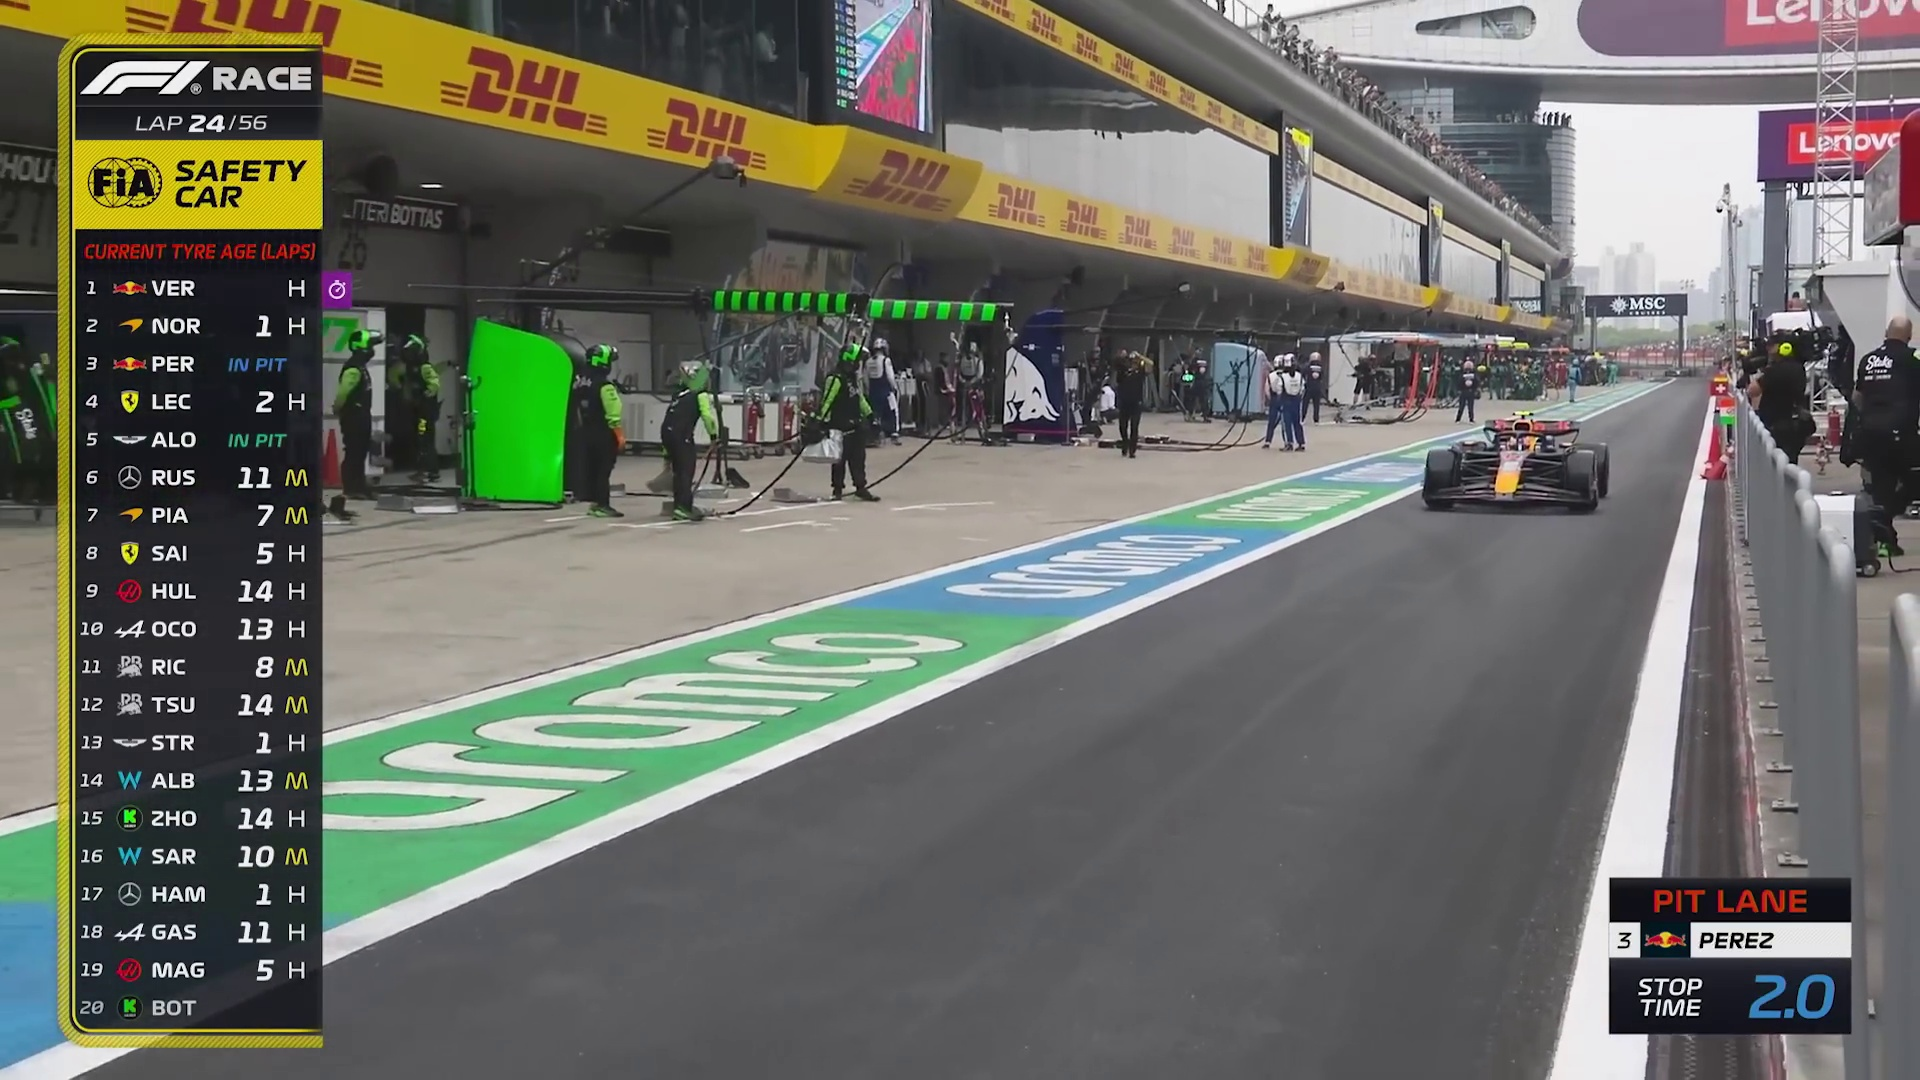RedBull: (1425, 419, 1613, 510)
